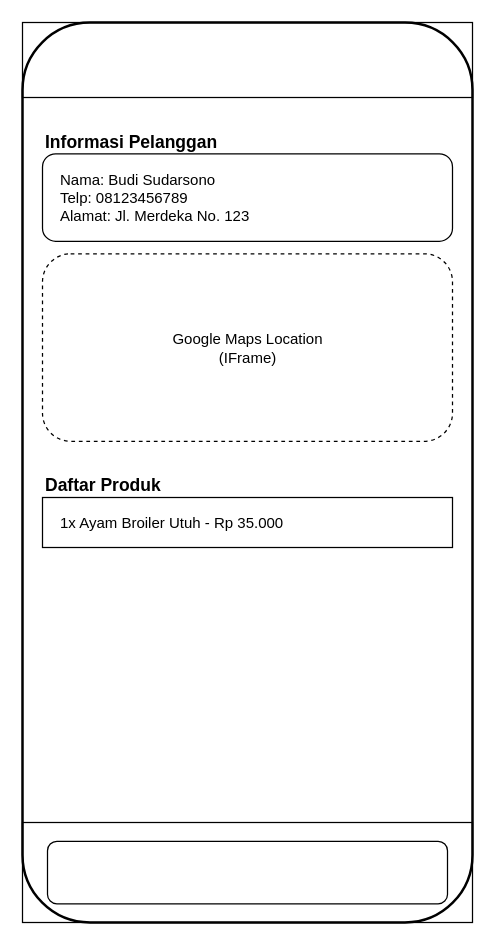
This 495x945 diagram has some shape labels left out. The shapes that lost their labels are listed below. From the top down, each one's centre as x and y in pixels, then its label:
At pixel 246 59: "Detail Pesanan".
At pixel 247 872: "Konfirmasi Pesanan".
